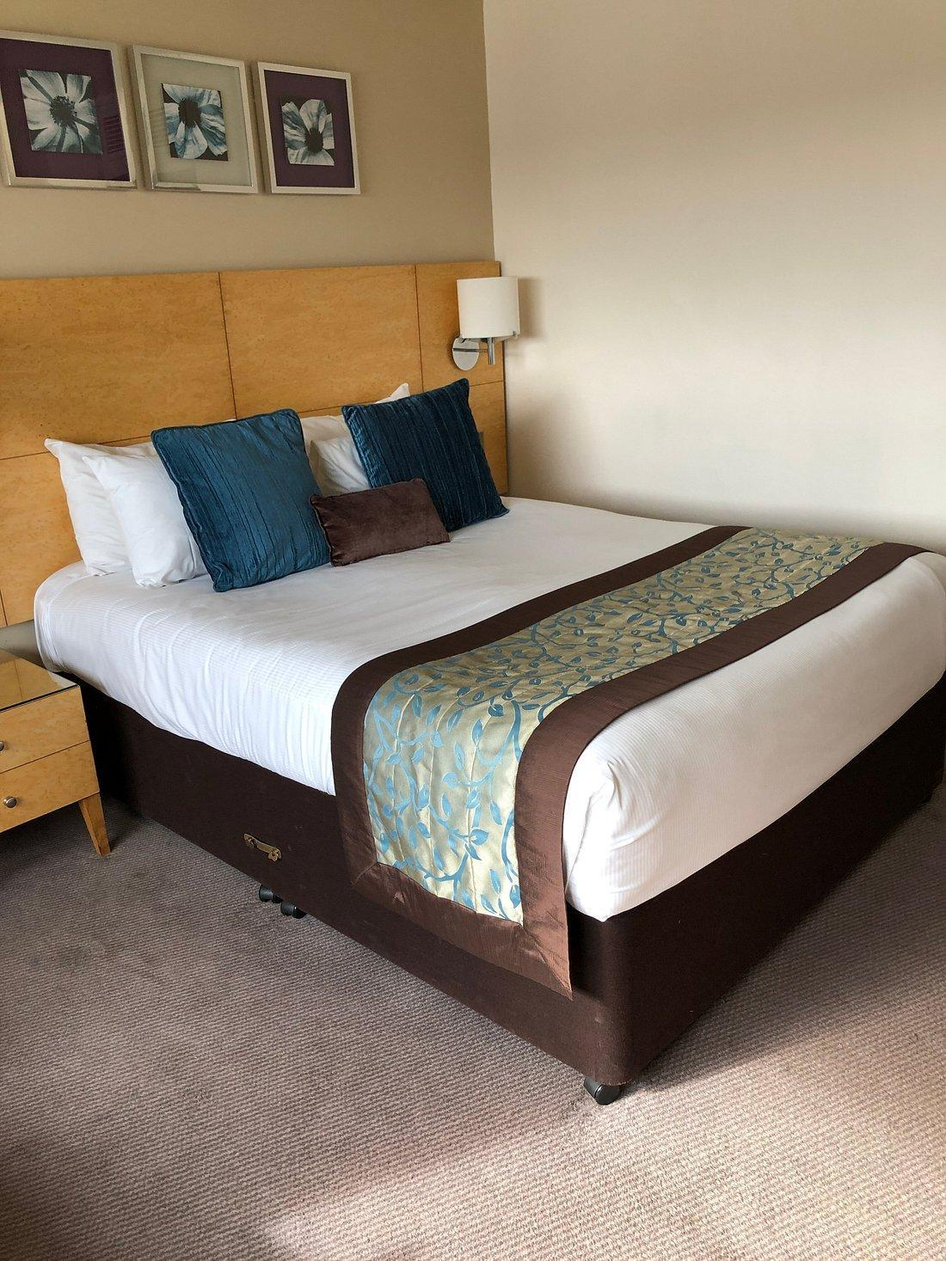clean_bed: (0, 251, 946, 1111)
clean_floor: (19, 855, 946, 1261)
organised_pillow: (54, 378, 525, 591)
